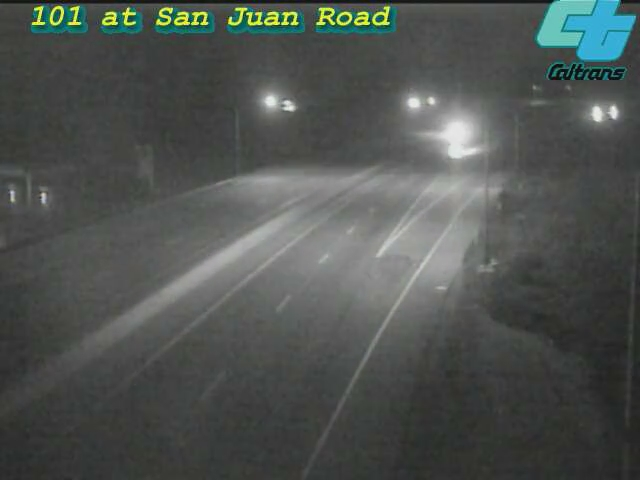vehicle: (430, 106, 480, 156), (433, 126, 483, 176), (571, 88, 621, 138), (590, 87, 640, 137)
